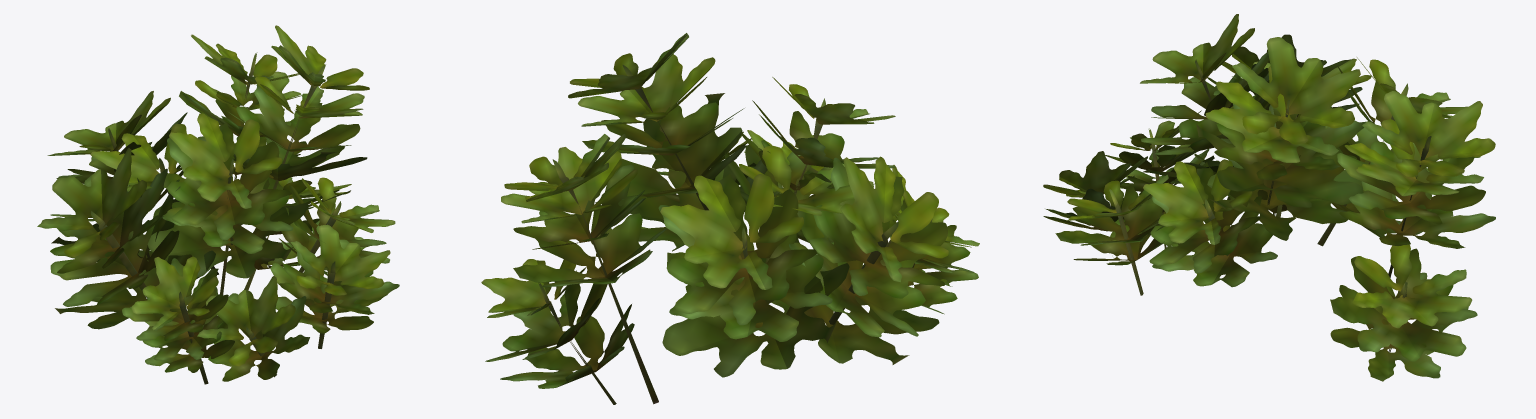
File: d_sd _zhiwu10_zw.FBX
3 views of the same model, side by side, from view 1: azimuth 30°, elevation 25°; view 2: azimuth 150°, elevation 25°; view 3: azimuth 270°, elevation 25° (orthographic). The views are drawn at different scales.
Parts seen in each view (by area): view 1: d_sd _zhiwu10_zw_01A; view 2: d_sd _zhiwu10_zw_01A; view 3: d_sd _zhiwu10_zw_01A.
Part boxes in pixels (x1,y1,x2,y2): d_sd _zhiwu10_zw_01A: [37, 25, 399, 384]; d_sd _zhiwu10_zw_01A: [481, 33, 979, 404]; d_sd _zhiwu10_zw_01A: [1043, 14, 1495, 381].
Bounding box in the file's own units: 125 × 97.81 × 131.
